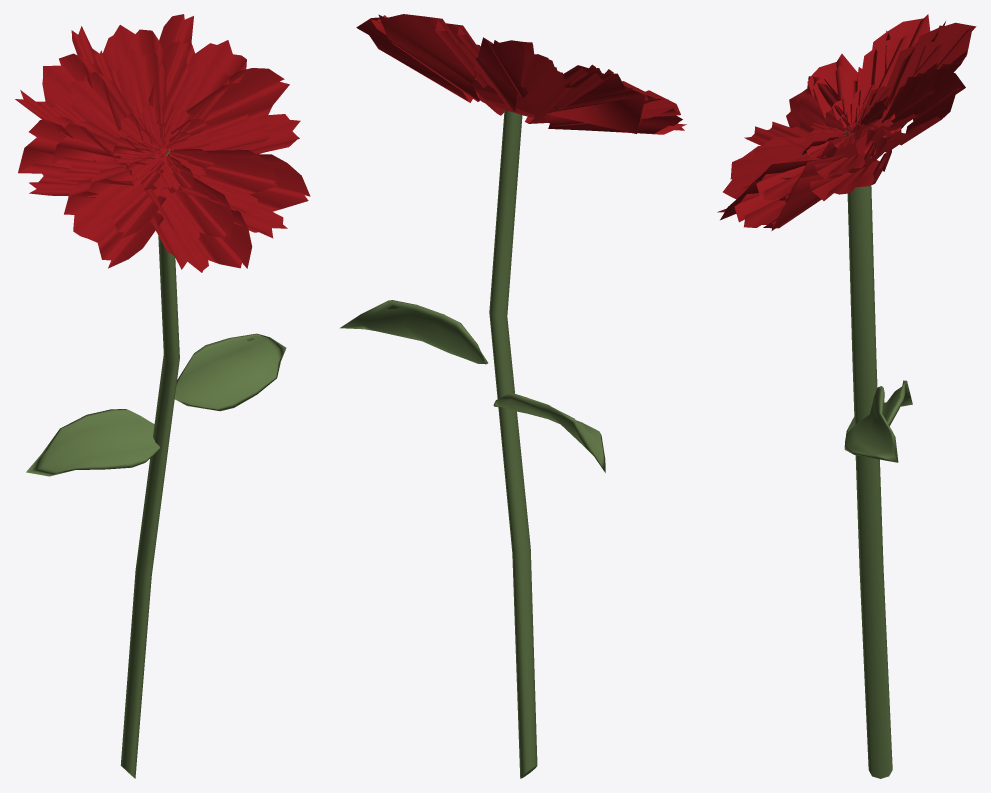
Rendered from carnationRed.fbx.
The picture shows the model from 3 angles, left to right: view 1: azimuth 30°, elevation 25°; view 2: azimuth 150°, elevation 25°; view 3: azimuth 270°, elevation 25°; orthographic projection. The views are drawn at different scales.
Parts seen in each view (by area): view 1: polySurface271; view 2: polySurface271; view 3: polySurface271.
Boxes of the visible parts, x1,y1,x2,y2 form: polySurface271: [15, 14, 310, 778]; polySurface271: [340, 14, 686, 778]; polySurface271: [717, 14, 976, 778].
Size of the model in its own units: 1.22 by 2.93 by 0.9236.
